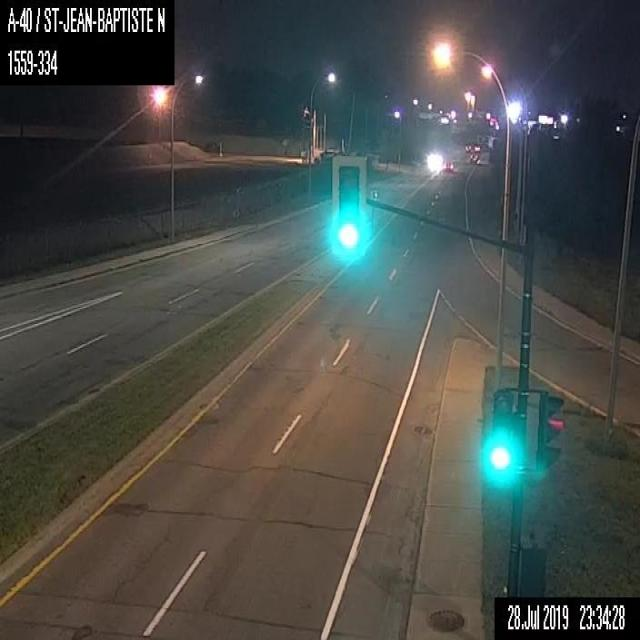vehicle: (442, 160, 453, 171), (468, 152, 478, 164)
